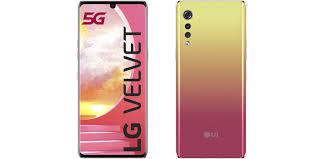Smartphone: (178, 0, 245, 158), (79, 0, 146, 156)
